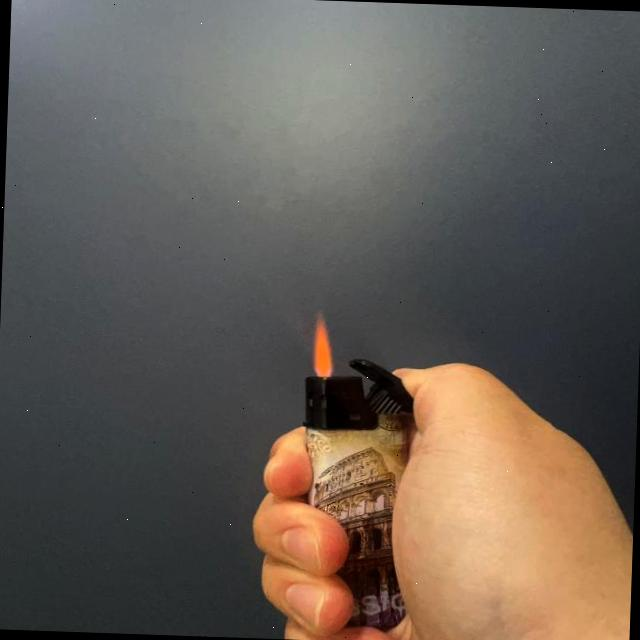fire: (306, 311, 336, 379)
